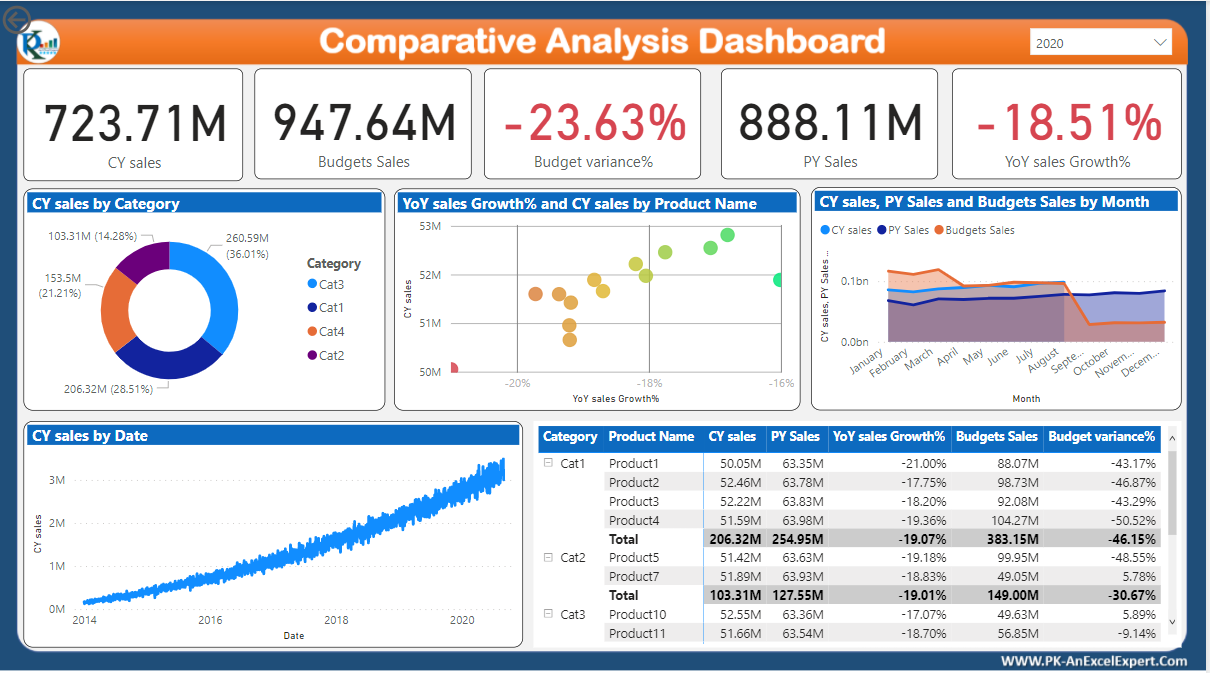

The dashboard page shown, as its layout file describes it:
{"tool":"powerbi","page":{"name":"Page 1","canvas":[1280,720],"ordinal":0},"visuals":[{"type":"card","fields":{"Values":["Sales.CY sales"]},"box":[26.5,72,233,119.5],"z":0,"group":"g1"},{"type":"group","id":"g1","title":"Group 1","box":[26.5,72,1227,119.3],"z":0},{"type":"card","fields":{"Values":["Sales.Budgets Sales"]},"box":[271.4,72.6,229.8,117.6],"z":1000,"group":"g1"},{"type":"slicer","fields":{"Values":["Date Dim.Year","Date Dim.Qtr","Date Dim.Month"]},"box":[1084,19.1,170.1,66.8],"z":1000},{"type":"card","fields":{"Values":["Sales.Budget variance%"]},"box":[514.6,72.6,229.8,117.6],"z":2000,"group":"g1"},{"type":"donutChart","fields":{"Category":["Product Master.Category"],"Y":["Sales.CY sales"]},"box":[27,198.7,383,235.2],"z":2000},{"type":"scatterChart","fields":{"Category":["Product Master.Product Name"],"X":["Sales.YoY sales Growth%"],"Y":["Sales.CY sales"]},"box":[419.6,198.7,430.7,235.2],"z":2001},{"type":"areaChart","fields":{"Category":["Date Dim.Month"],"Y":["Sales.CY sales","Sales.PY Sales","Sales.Budgets Sales"]},"box":[861.5,197.1,392.6,236.8],"z":2002},{"type":"lineChart","fields":{"Category":["Date Dim.Date"],"Y":["Sales.CY sales"]},"box":[27,445,529.3,240],"z":2003},{"type":"pivotTable","fields":{"Values":["Sales.CY sales","Sales.PY Sales","Sales.YoY sales Growth%","Sales.Budgets Sales","Sales.Budget variance%"],"Rows":["Product Master.Category","Product Master.Product Name"]},"box":[567.4,445,686.6,240],"z":2004},{"type":"actionButton","box":[0,0,100,40],"z":2005},{"type":"card","fields":{"Values":["Sales.PY Sales"]},"box":[765.3,72.6,229.8,117.6],"z":3000,"group":"g1"},{"type":"card","fields":{"Values":["Sales.YoY sales Growth%"]},"box":[1010.3,72.6,243.1,117.6],"z":4000,"group":"g1"}]}

Visuals, with their boxes in screenshot pixels (x1, y1, x2, y2), scaled from the page's 1280x720 canvas onto the 1210x673 screenshot:
card - Sales.CY sales: region(25, 67, 245, 179)
"Group 1" group: region(25, 67, 1185, 179)
card - Sales.Budgets Sales: region(257, 68, 474, 178)
slicer - Date Dim.Year x Date Dim.Qtr: region(1025, 18, 1186, 80)
card - Sales.Budget variance%: region(486, 68, 704, 178)
donutChart - Product Master.Category x Sales.CY sales: region(26, 186, 388, 406)
scatterChart - Product Master.Product Name x Sales.YoY sales Growth%: region(397, 186, 804, 406)
areaChart - Date Dim.Month x Sales.CY sales: region(814, 184, 1186, 406)
lineChart - Date Dim.Date x Sales.CY sales: region(26, 416, 526, 640)
pivotTable - Sales.CY sales x Sales.PY Sales: region(536, 416, 1185, 640)
actionButton: region(0, 0, 95, 37)
card - Sales.PY Sales: region(723, 68, 941, 178)
card - Sales.YoY sales Growth%: region(955, 68, 1185, 178)
